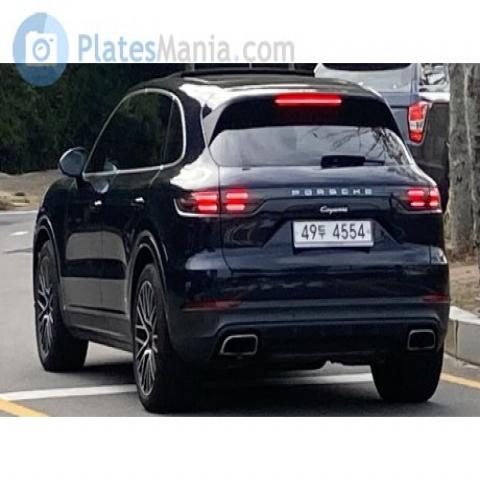LP: (280, 214, 389, 254)
